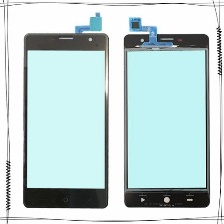phone: (18, 28, 111, 211), (119, 29, 213, 210)
